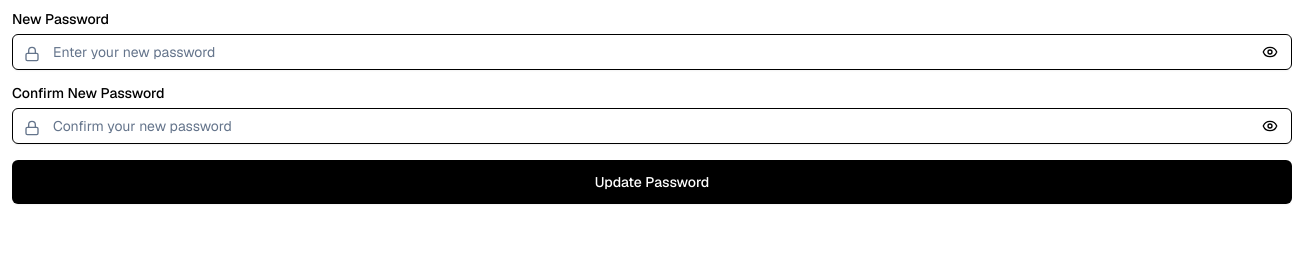
Test: ResetPasswordForm › shows password validation errors
The width and height of the screenshot is (1304, 277).
// Test short password
Step 1. Type "short" into the password field with placeholder "Enter your new password" → {"x": 652, "y": 52}, box [12,34,1292,70]
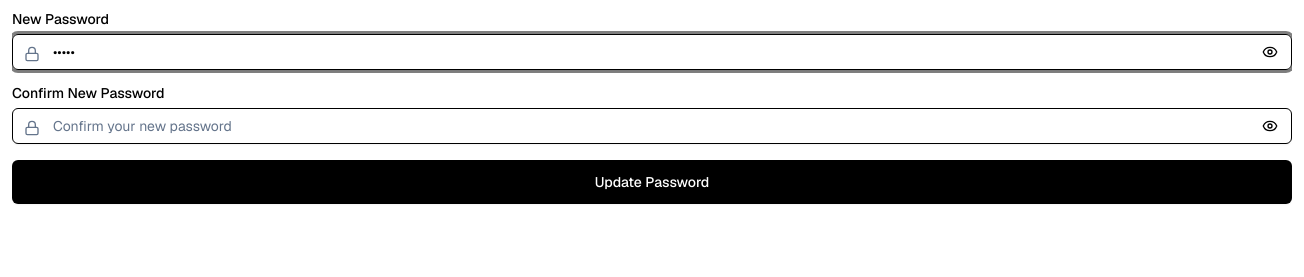
Step 2. Click the button "Update Password" → {"x": 652, "y": 182}, box [12,160,1292,204]
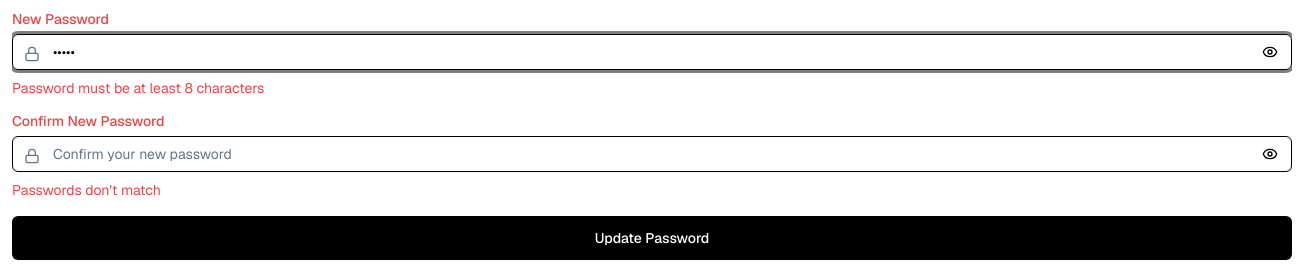
Expected: the text "Password must be at least 8 characters" is shown, [12,79,264,97]
